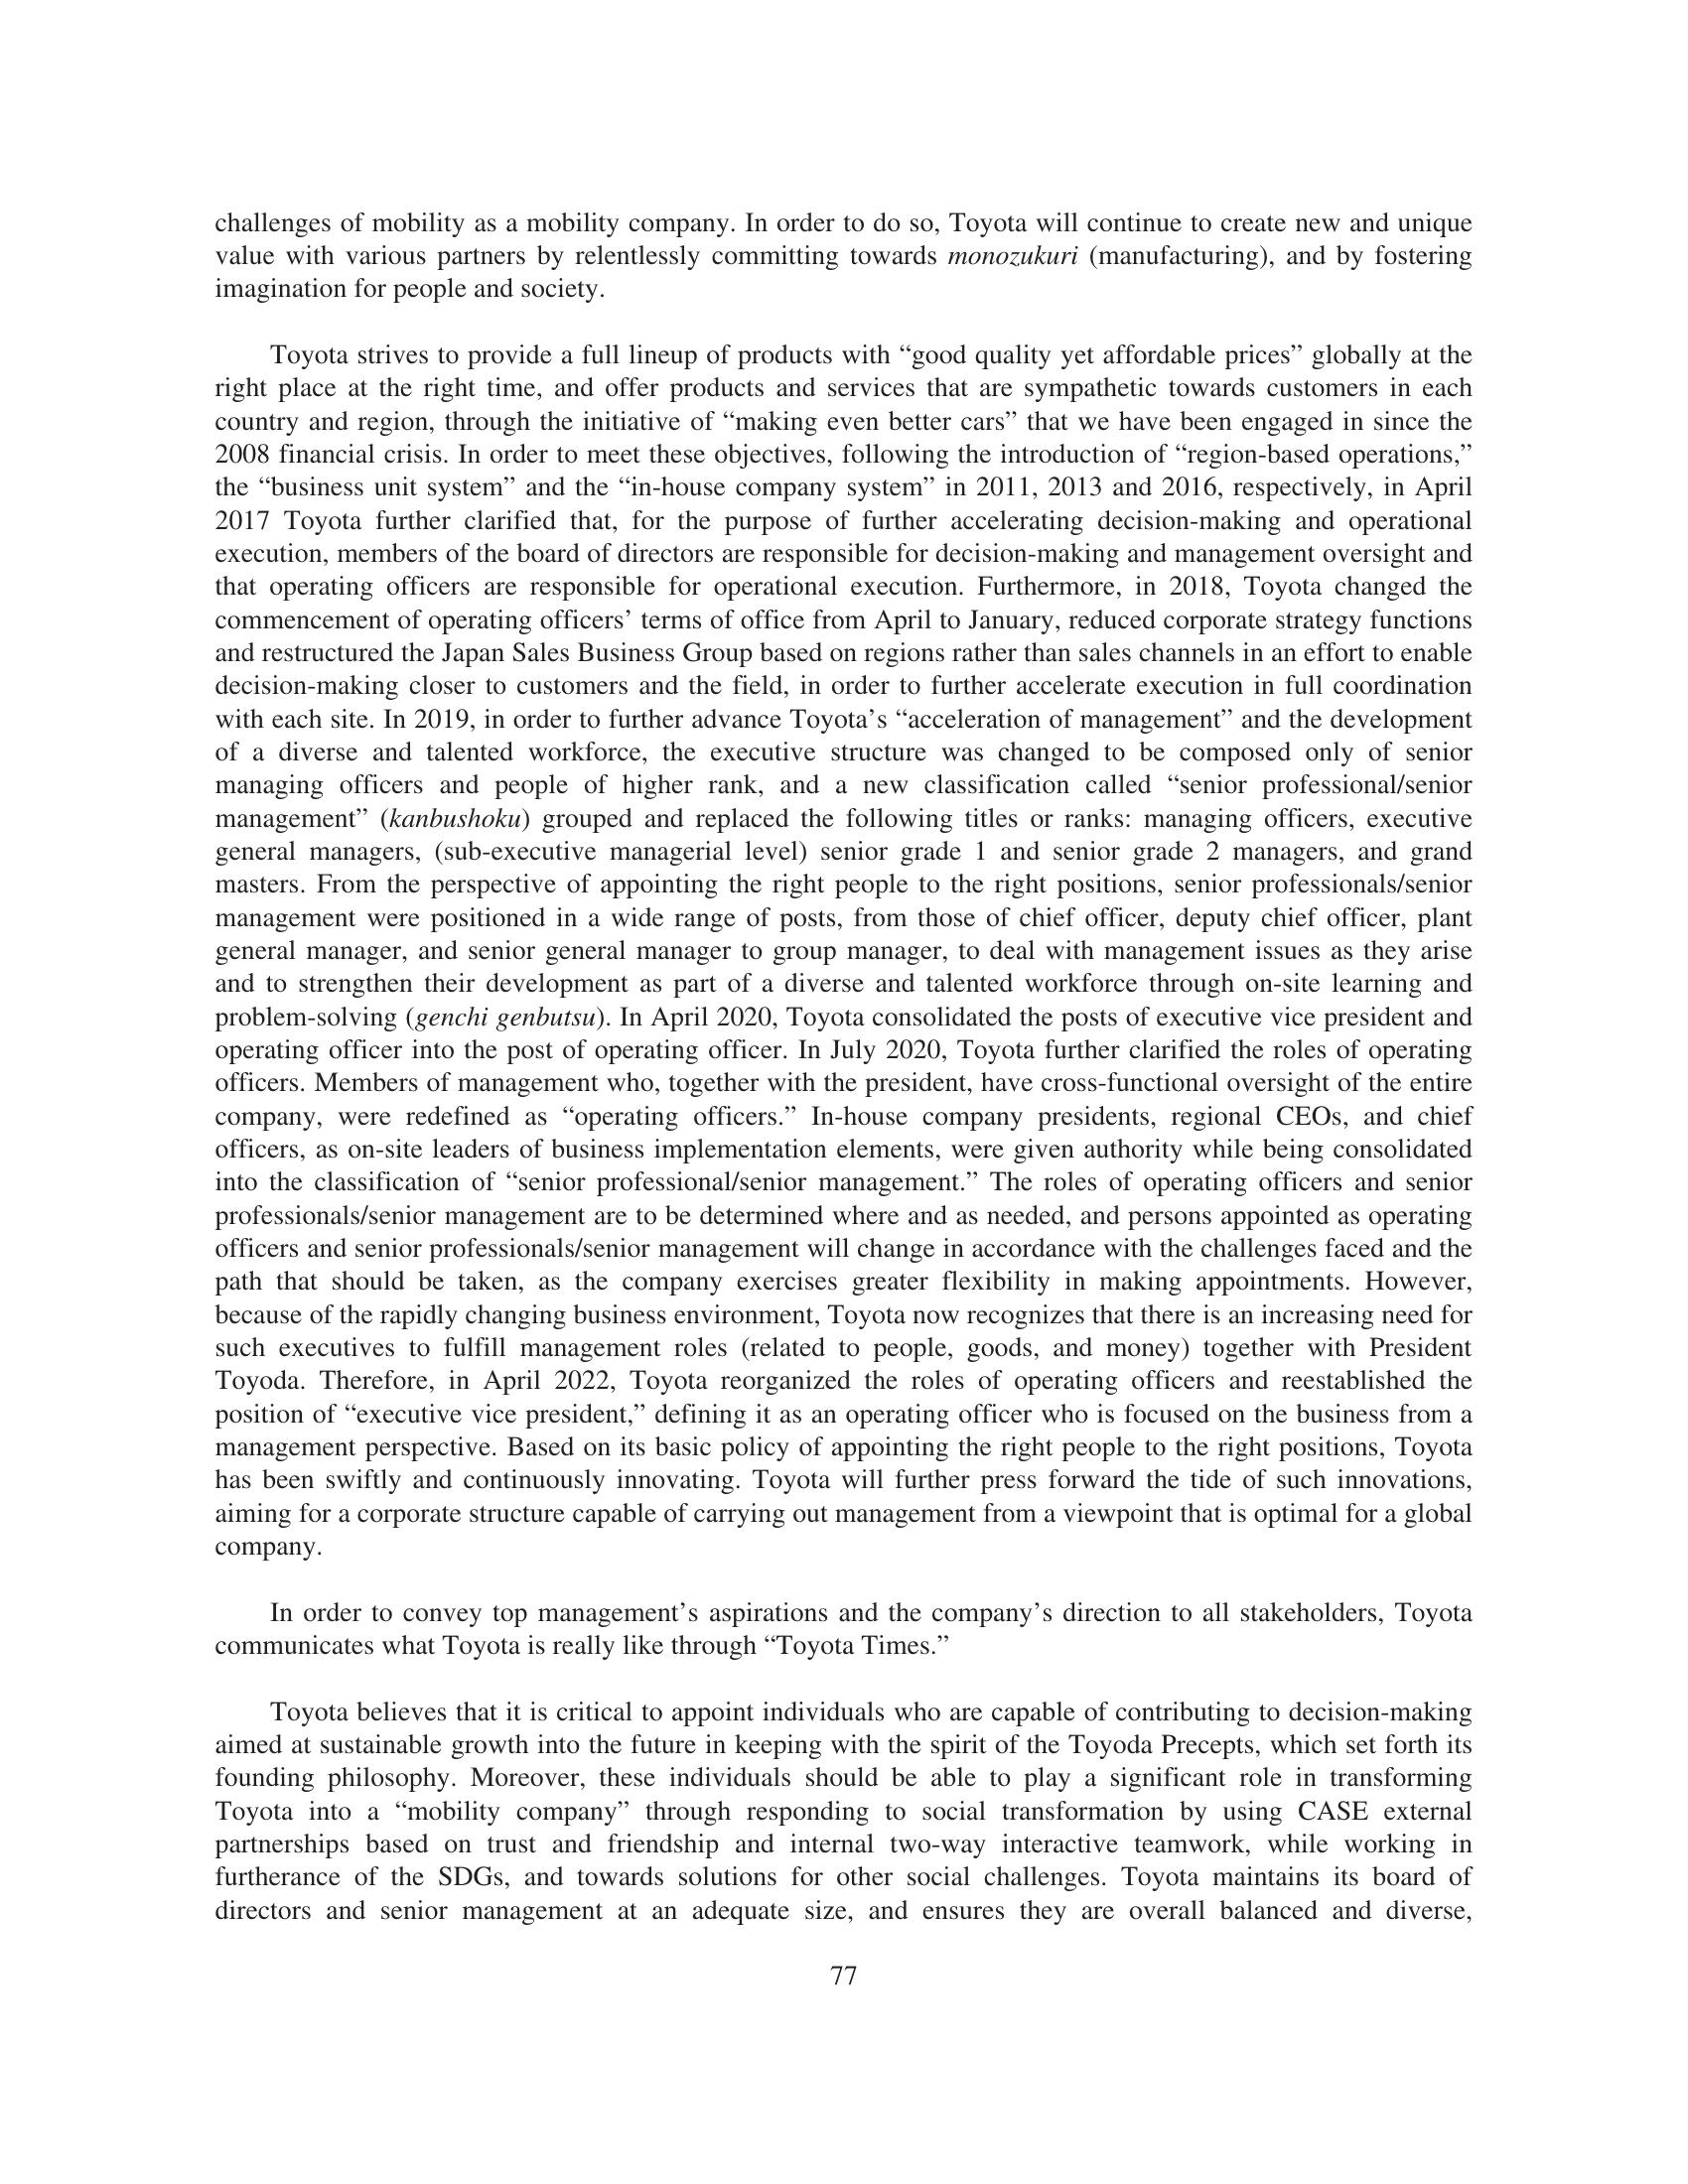Footer: (0, 1938, 1688, 2184)
Header: (0, 0, 1688, 195)
